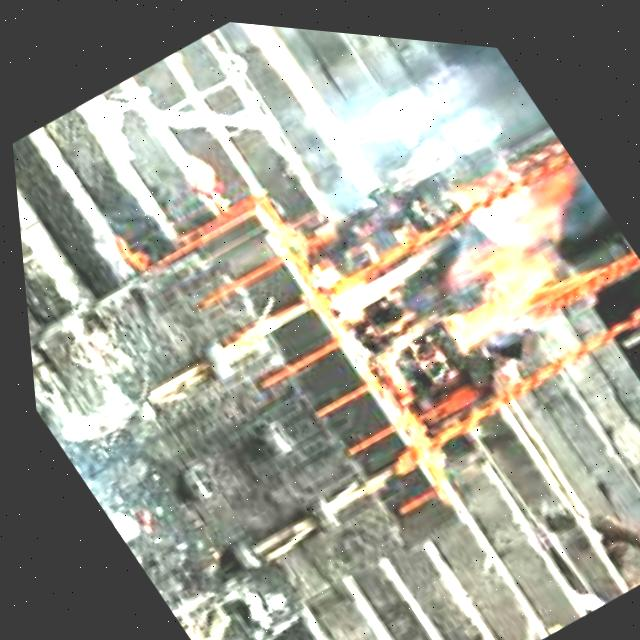Fire: (310, 127, 636, 398)
